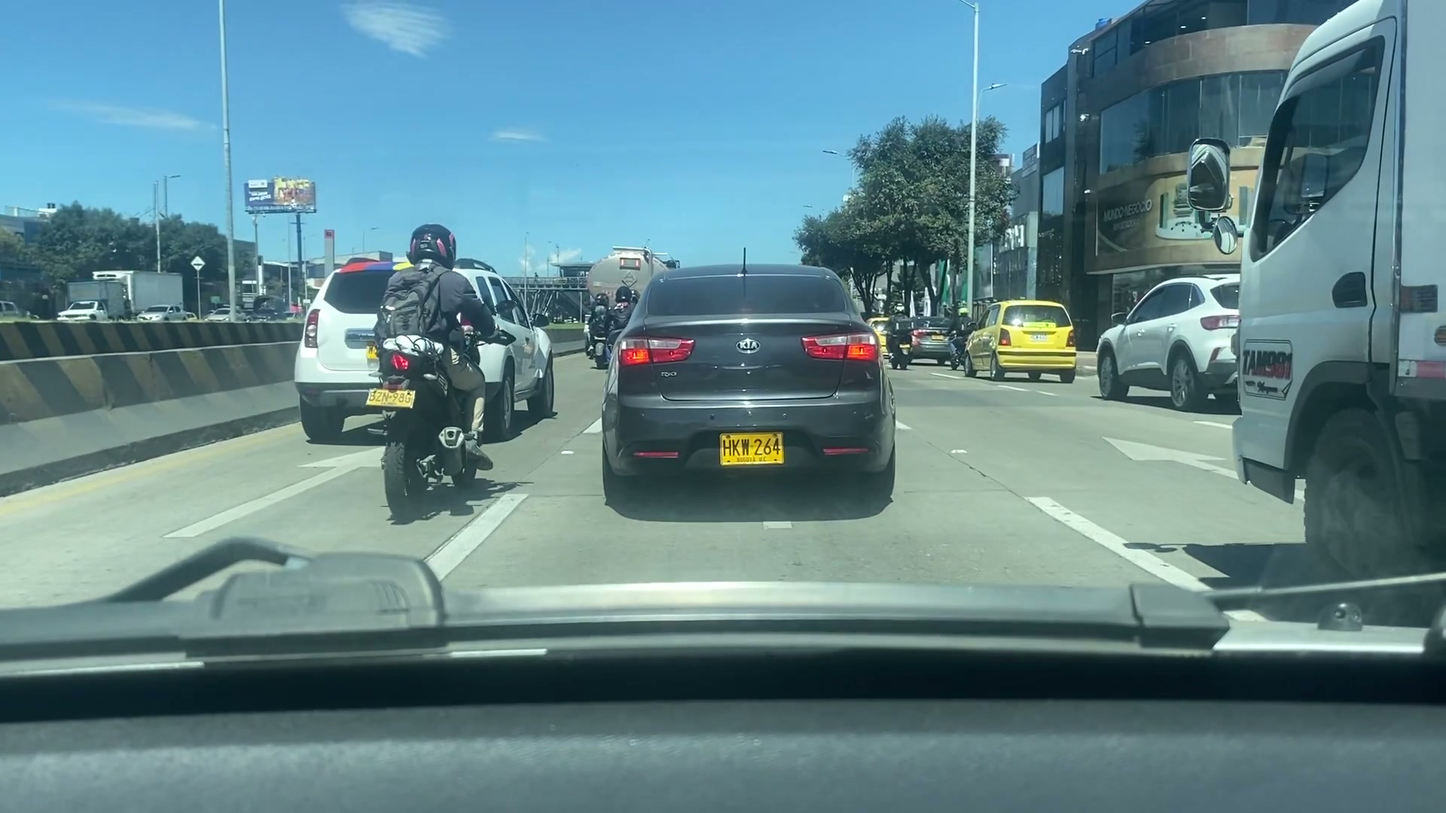car: (604, 267, 897, 500), (286, 247, 557, 442), (1095, 270, 1262, 401), (965, 298, 1077, 385), (911, 314, 960, 365)
motorcycle: (343, 345, 502, 515), (885, 332, 915, 367)
person: (373, 223, 494, 474), (880, 295, 913, 365), (582, 287, 612, 348), (607, 285, 637, 342)
truck: (1188, 1, 1445, 602)
